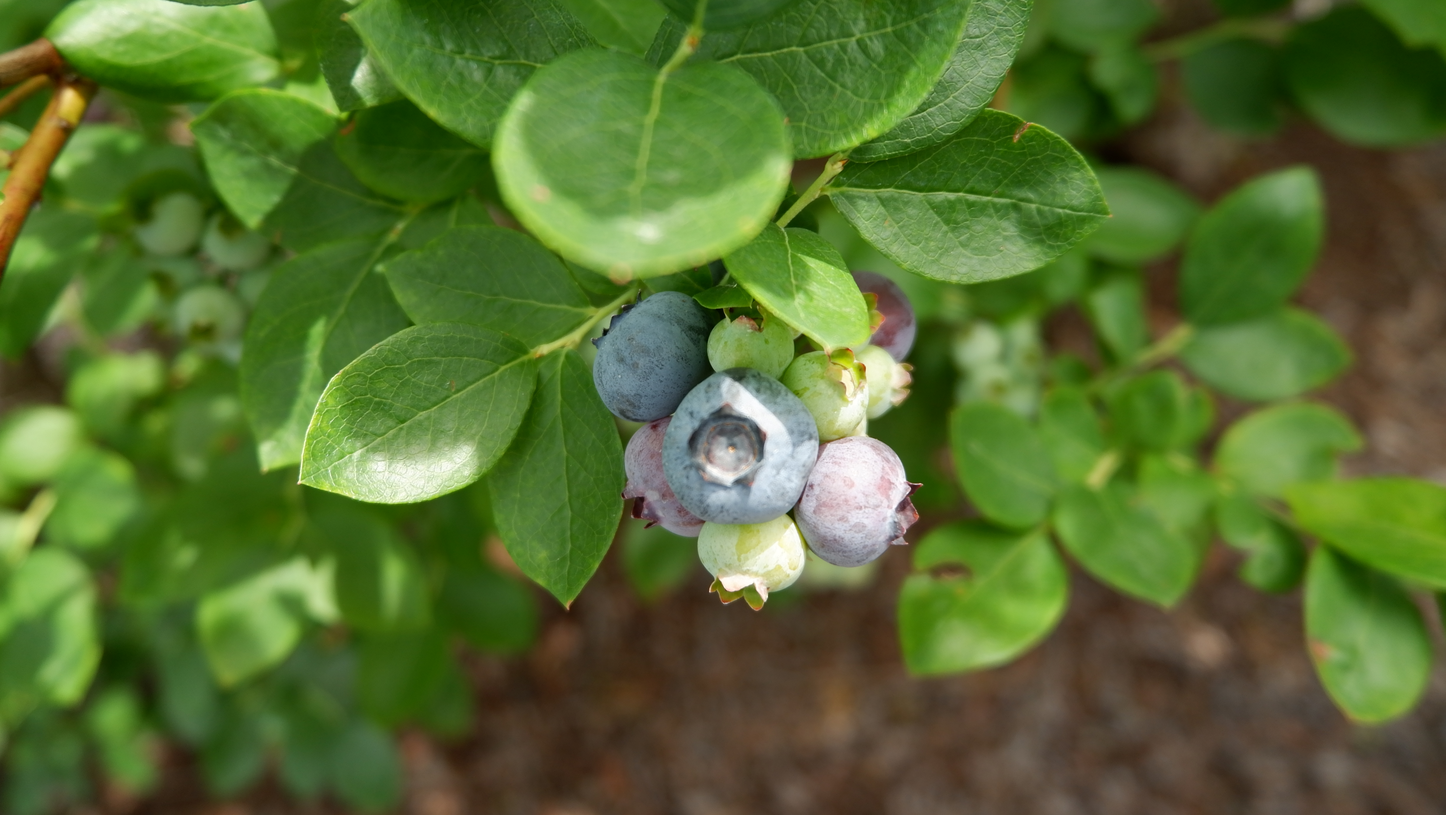Immature: (792, 436, 922, 568), (696, 514, 807, 611), (620, 416, 706, 537), (782, 346, 869, 442), (707, 301, 795, 382), (850, 268, 914, 364), (856, 343, 912, 418)
Mature: (660, 367, 821, 527), (587, 291, 712, 423)
